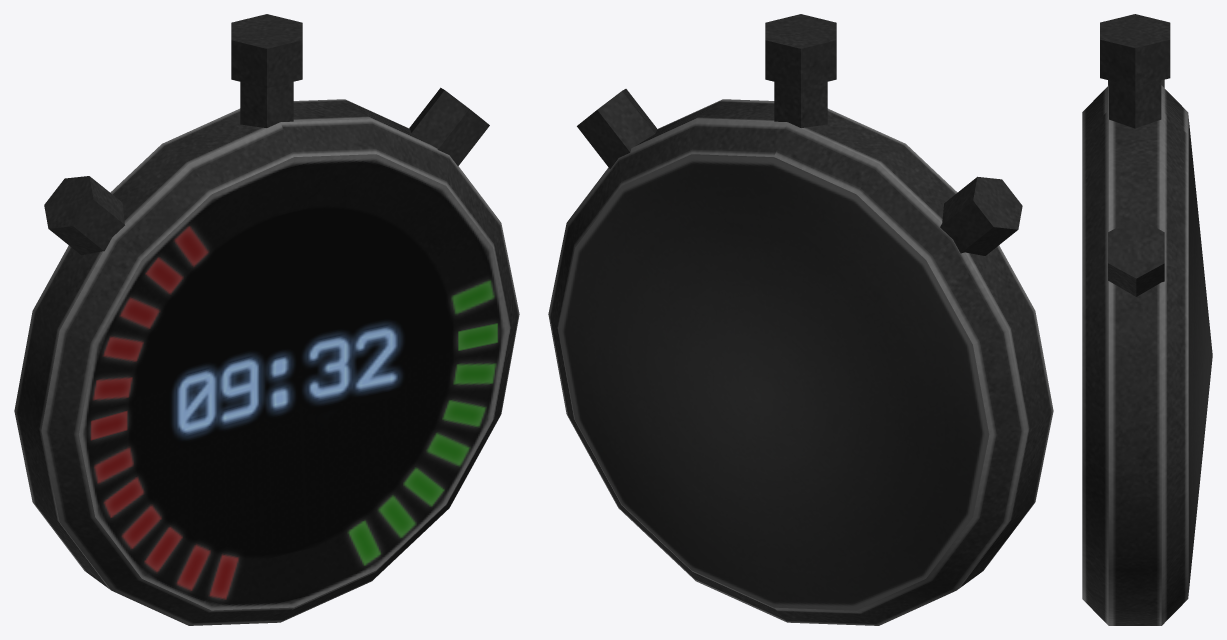
Rendered from Clock.FBX.
3 views of the same model, side by side, from view 1: azimuth 30°, elevation 25°; view 2: azimuth 150°, elevation 25°; view 3: azimuth 270°, elevation 25° (orthographic). The views are drawn at different scales.
Parts seen in each view (by area): view 1: Clock; view 2: Clock; view 3: Clock.
Part boxes in pixels (x1,y1,x2,y2): Clock: [14, 14, 519, 625]; Clock: [548, 14, 1053, 625]; Clock: [1082, 14, 1212, 625].
Size of the model in its own units: 20.64 by 23.98 by 4.98.
